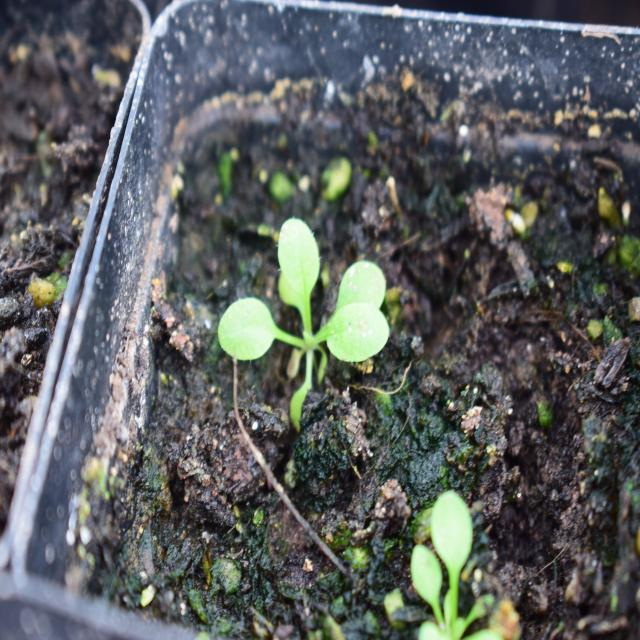Shepherd_Purse: (209, 217, 407, 430)
